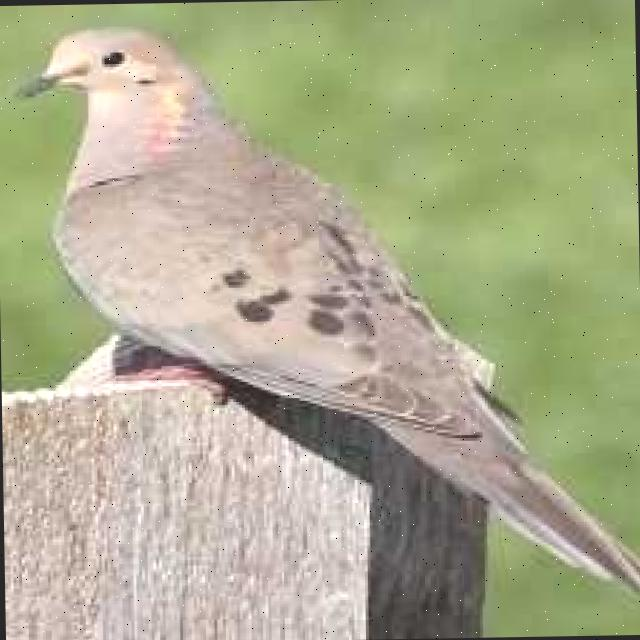dove: (0, 11, 637, 612)
